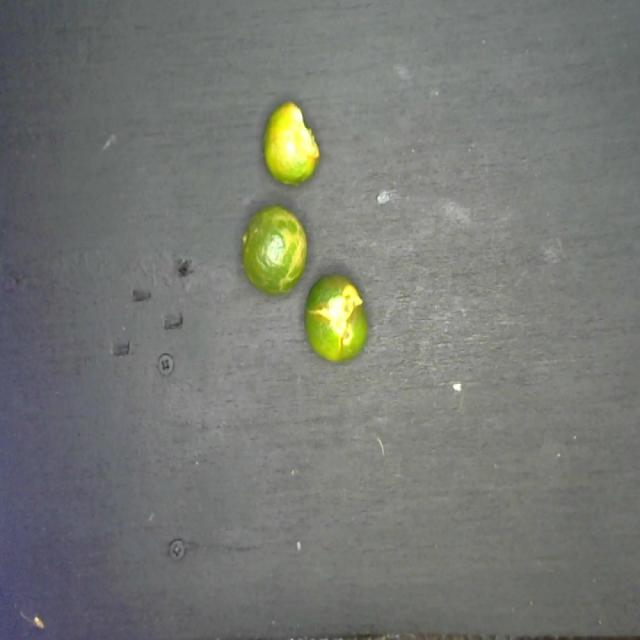biodegradable: (230, 91, 372, 367)
